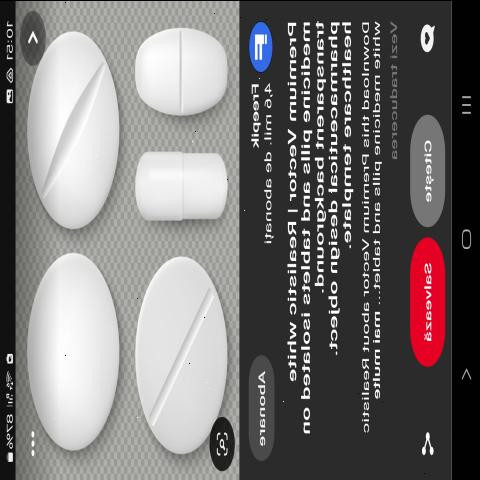Pill: (22, 244, 128, 478), (125, 244, 237, 462), (20, 27, 123, 243), (126, 14, 236, 136), (125, 144, 236, 248)
